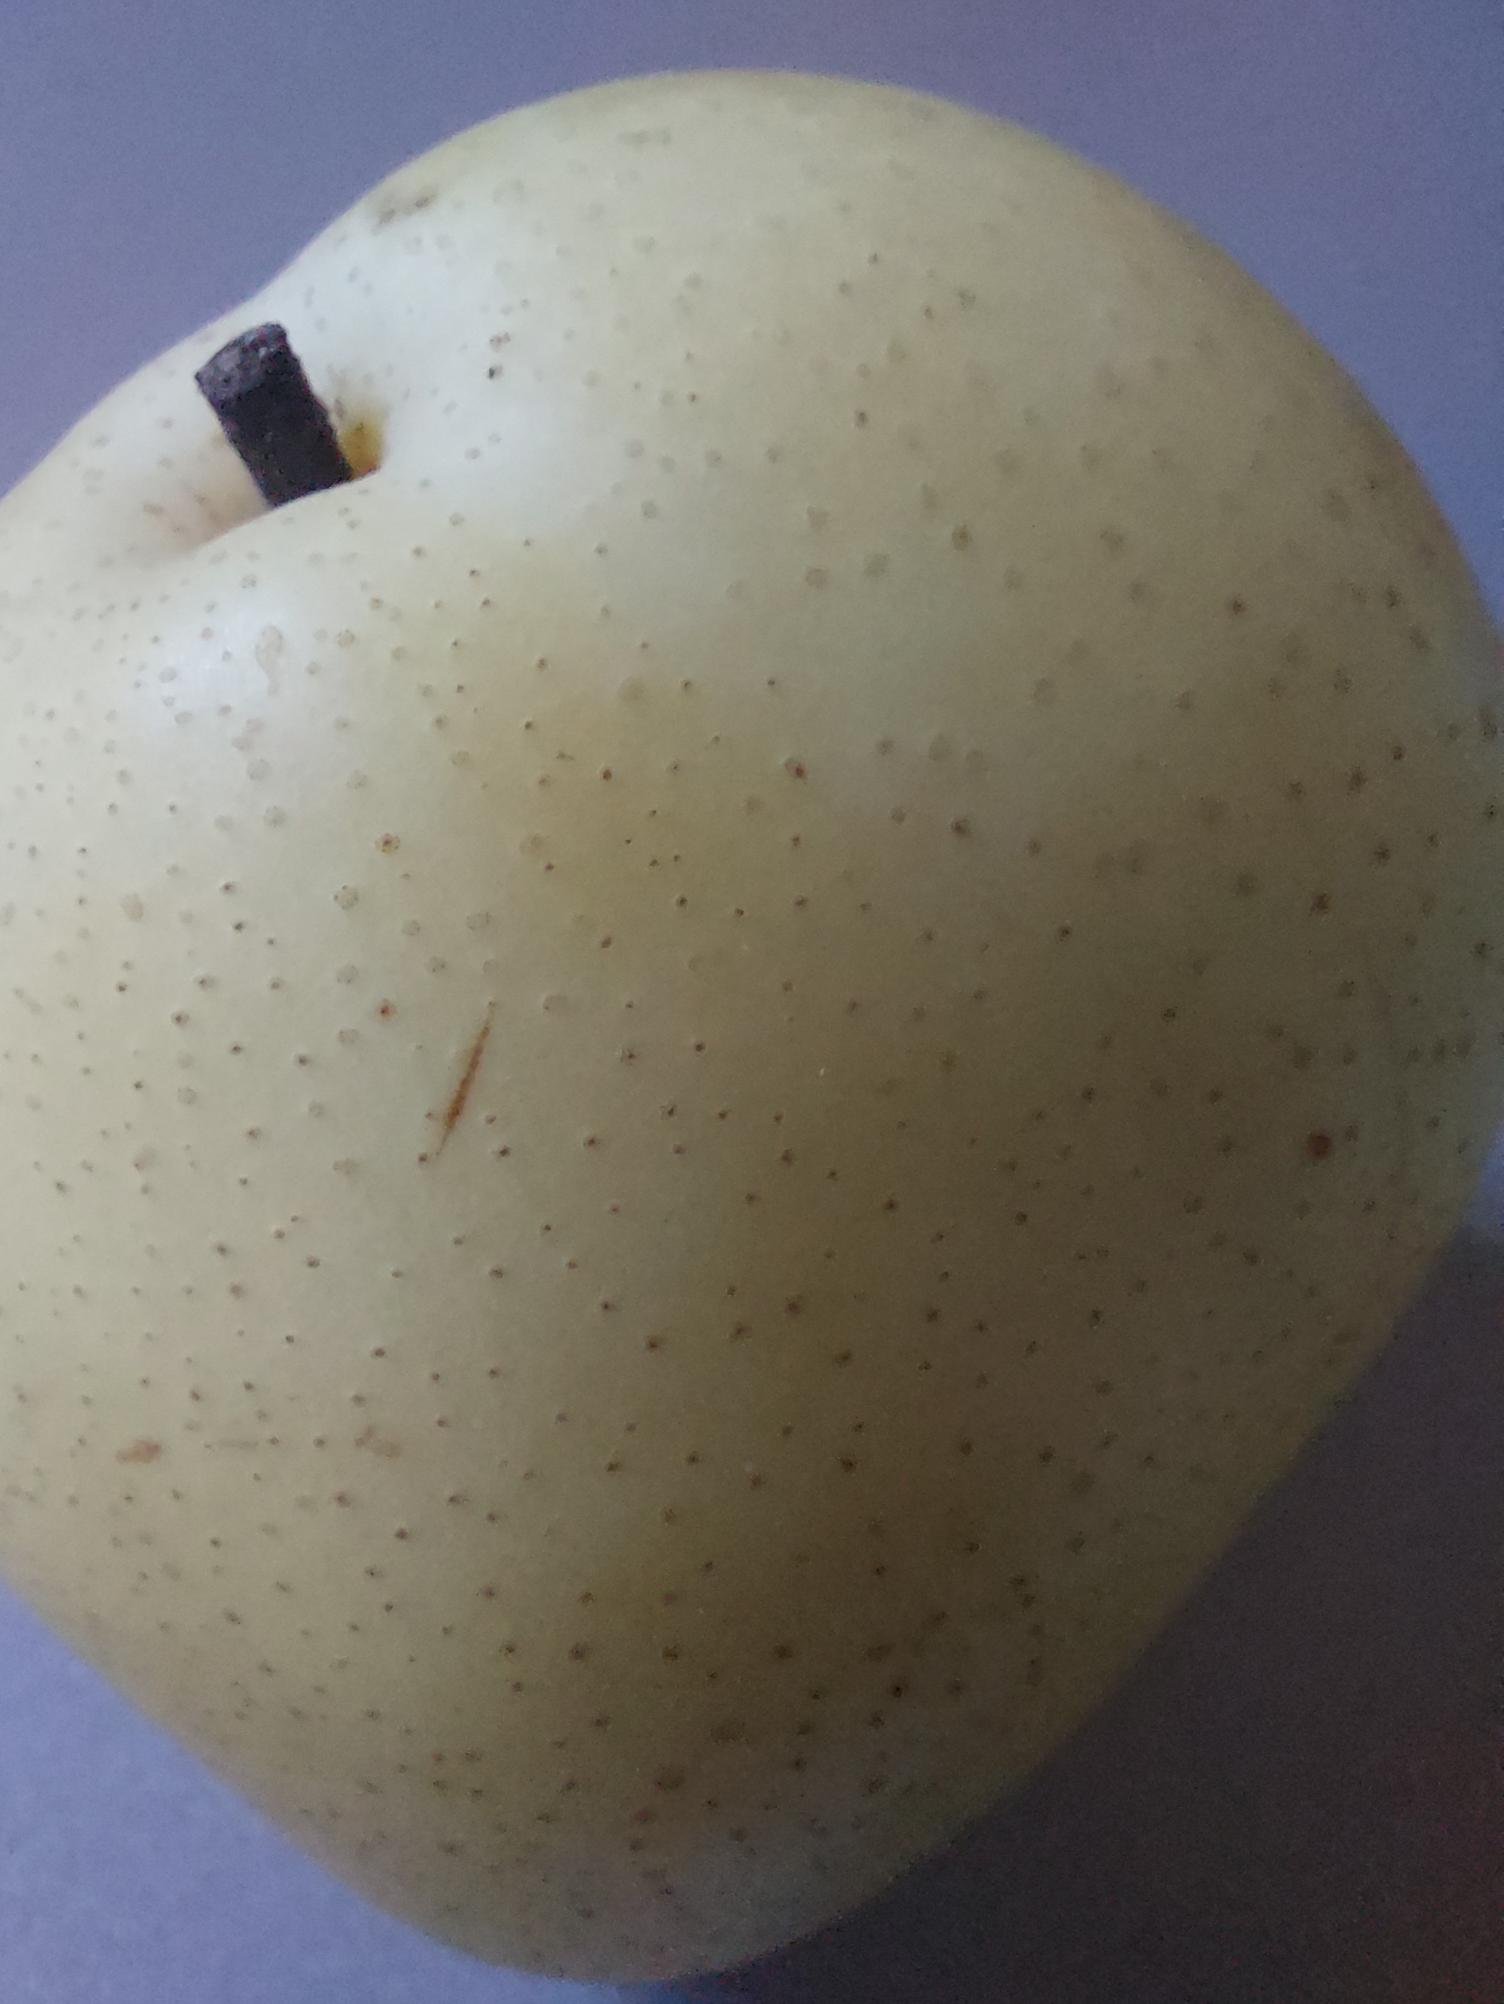Good Pear: (0, 8, 1476, 2004)
